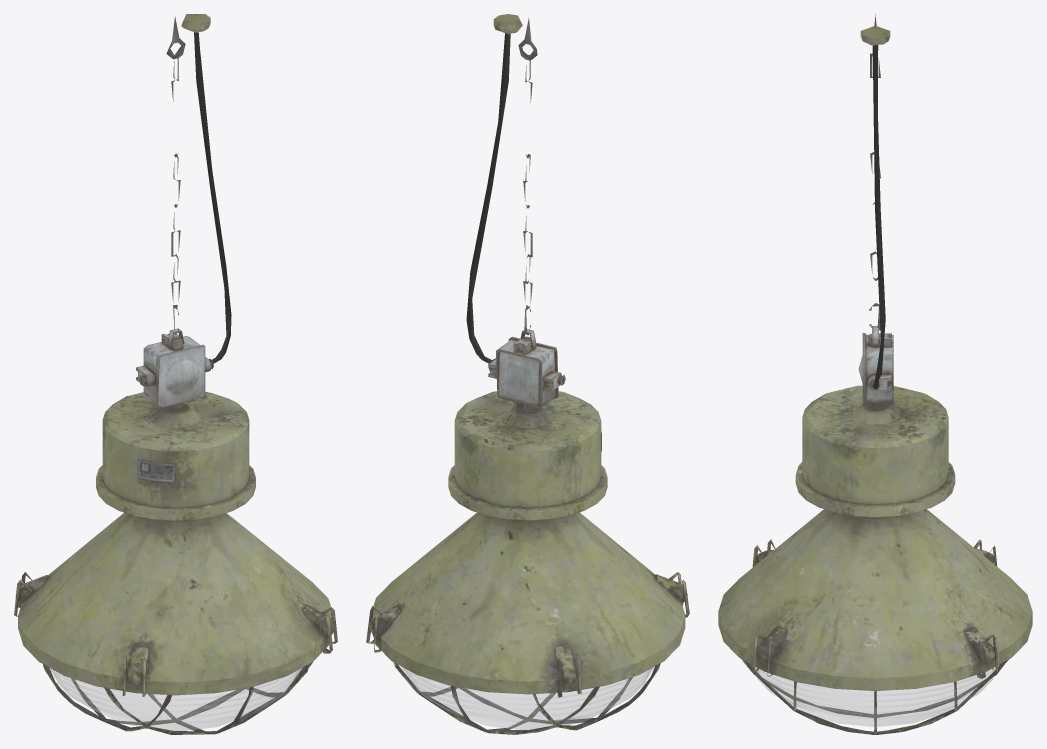
Rendered from hanging_industrial_lamp.glb.
3 views of the same model, side by side, from view 1: azimuth 30°, elevation 25°; view 2: azimuth 150°, elevation 25°; view 3: azimuth 270°, elevation 25° (orthographic).
Visible parts, largest first — view 1: hanging_industrial_lamp; view 2: hanging_industrial_lamp; view 3: hanging_industrial_lamp.
Part boxes in pixels (x1,y1,x2,y2): hanging_industrial_lamp: (14,14,337,734); hanging_industrial_lamp: (366,14,689,734); hanging_industrial_lamp: (718,14,1032,734).
Size of the model in its own units: 0.5497 by 1.36 by 0.5497.
2 materials, 1 textured.
